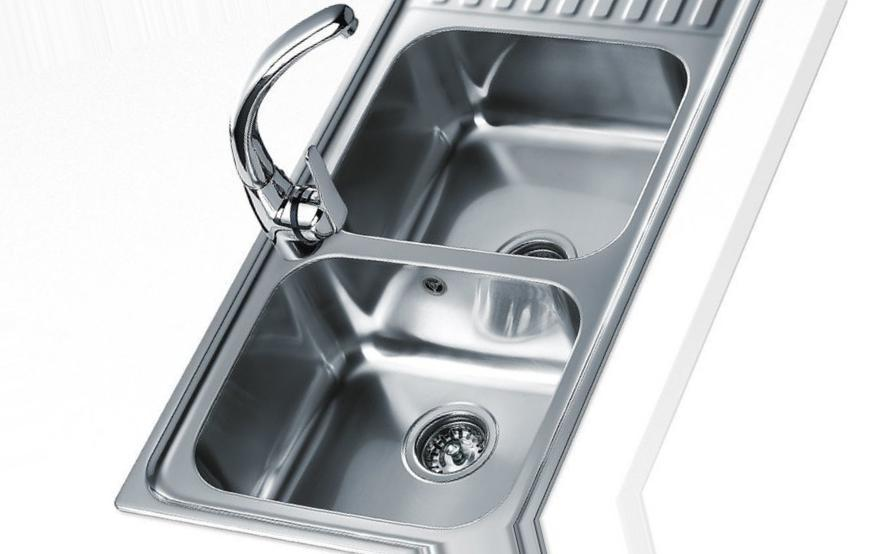Lavaplatos: (100, 6, 728, 553)
